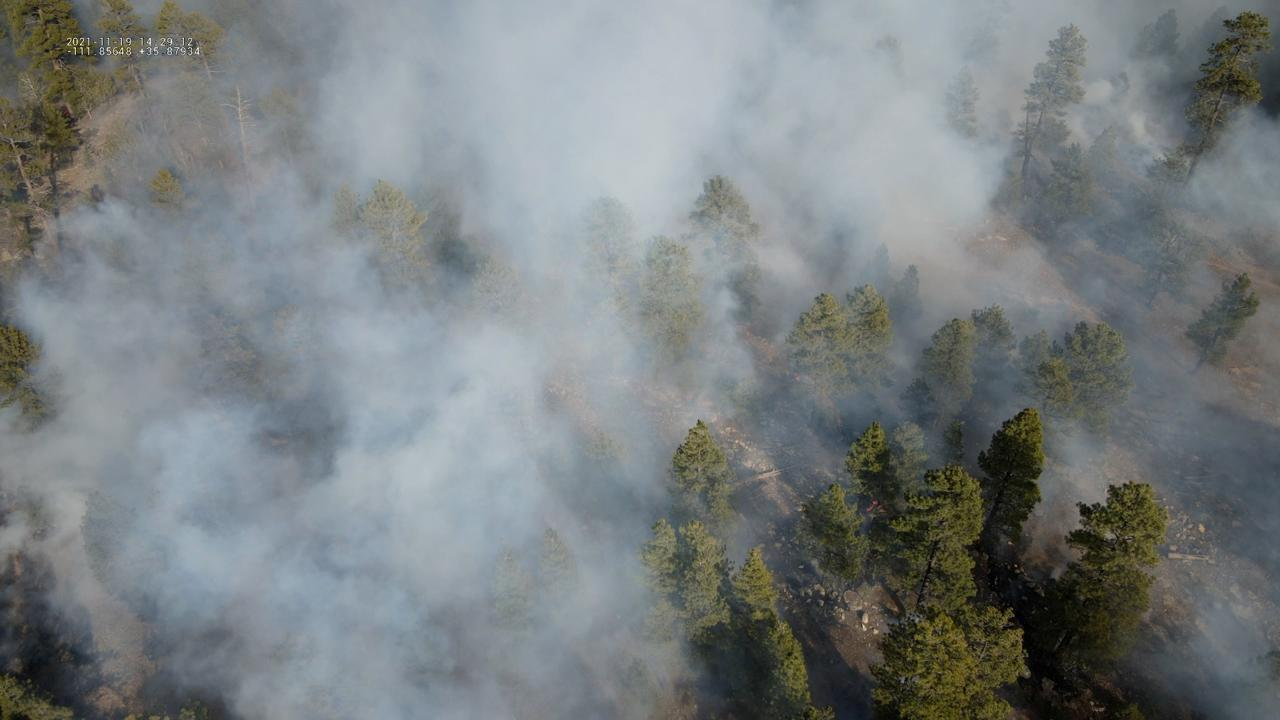fire: (864, 497, 880, 513)
smoke: (0, 0, 1280, 720)
